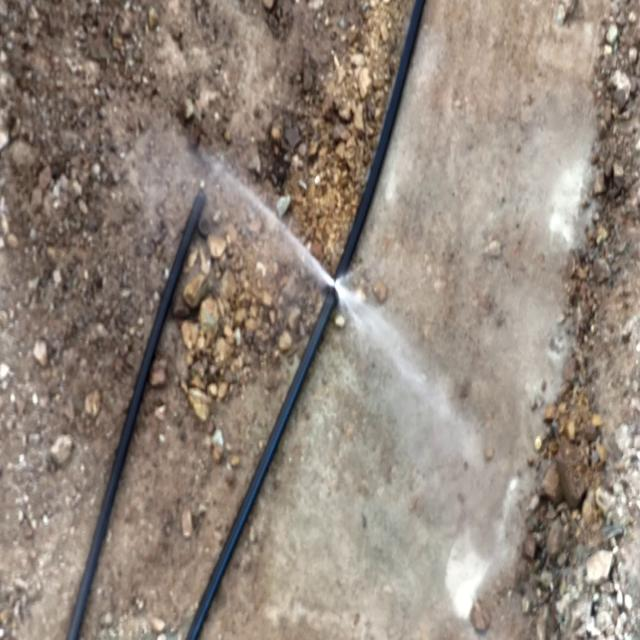leak: (201, 152, 390, 348)
